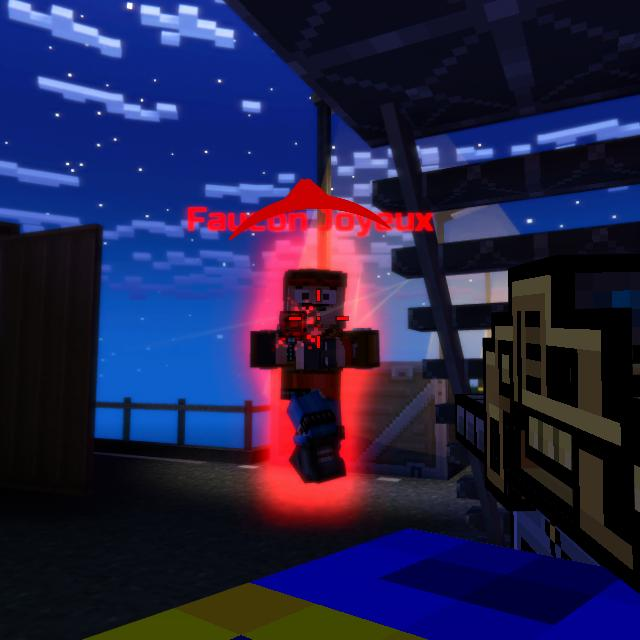Enemy: (248, 267, 379, 480)
